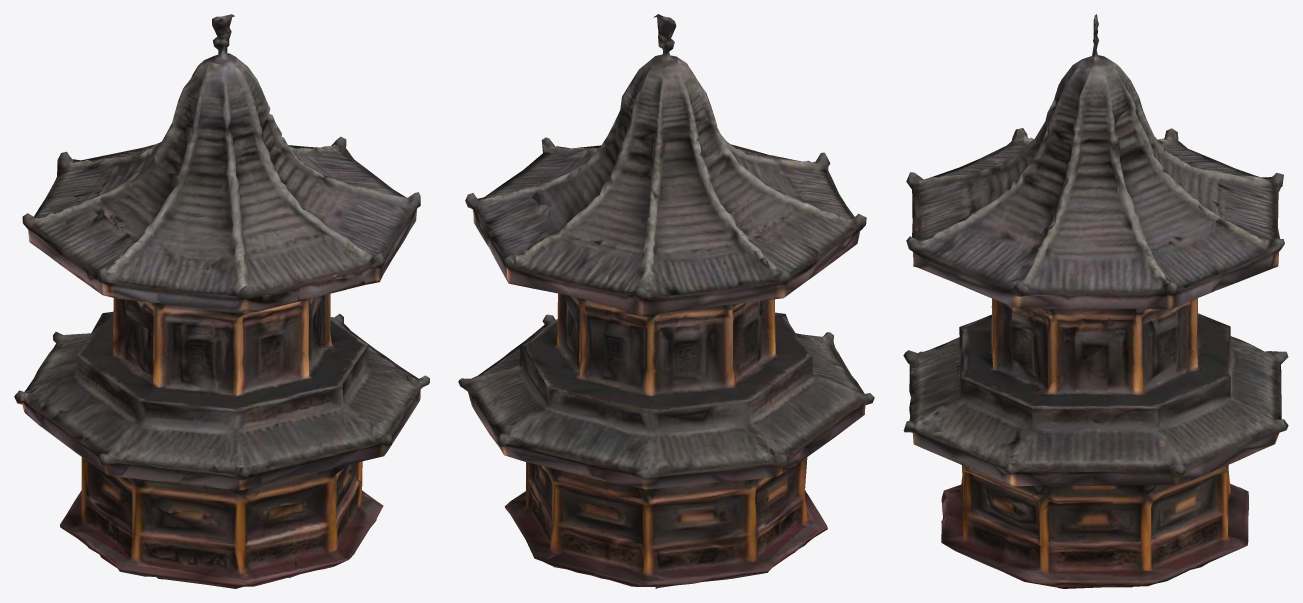
File: bq_granary.lod1.glb
3 renders of one model, left to right at view 1: azimuth 30°, elevation 25°; view 2: azimuth 150°, elevation 25°; view 3: azimuth 270°, elevation 25°, orthographic.
Size of the model in its own units: 1.29 by 1.99 by 1.3.
Materials: 1 (1 with a texture image).
